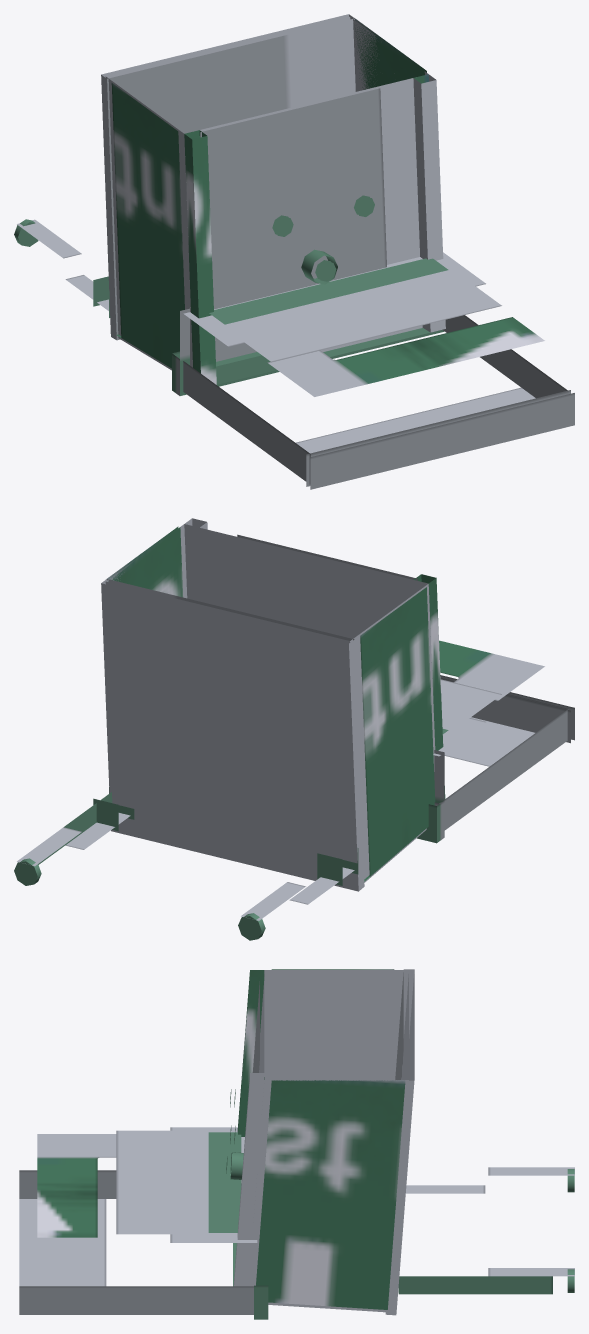
Rendered from section-1.obj.
3 renders of one model, top to bottom at view 1: azimuth 30°, elevation 25°; view 2: azimuth 150°, elevation 25°; view 3: azimuth 270°, elevation 25°, orthographic. The views are drawn at different scales.
Bounding box in the file's own units: 0.78 × 0.72 × 1.56.
